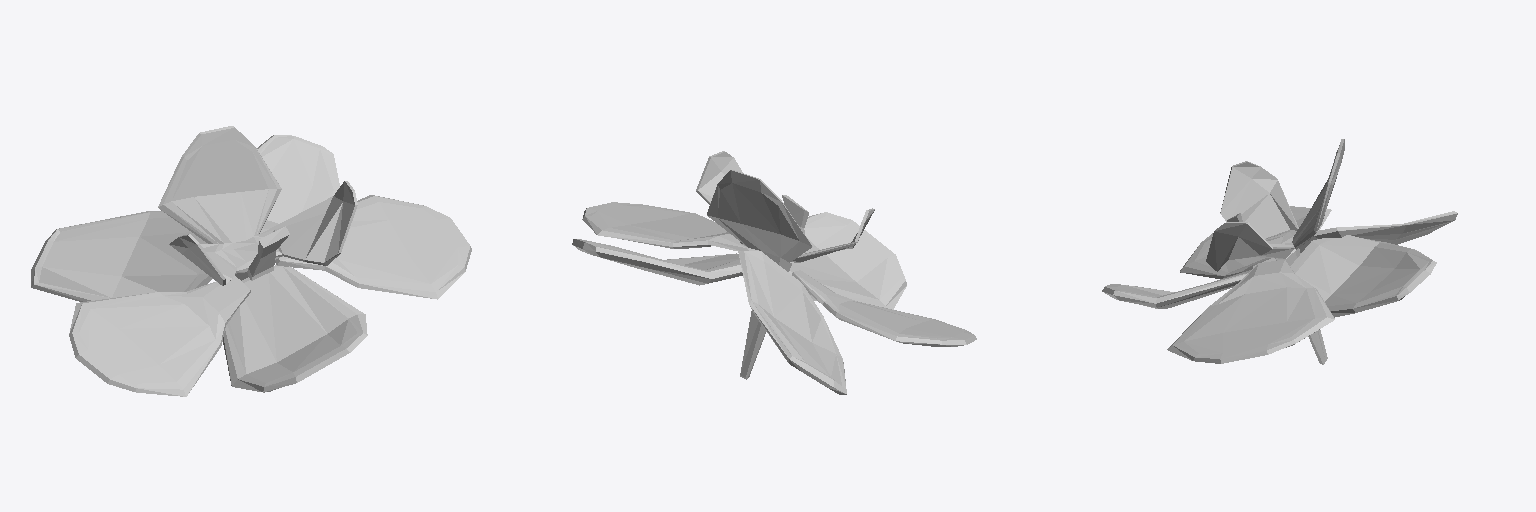
The model's file is orchid.obj.
The picture shows the model from 3 angles: view 1: azimuth 30°, elevation 25°; view 2: azimuth 150°, elevation 25°; view 3: azimuth 270°, elevation 25°; orthographic projection.
Visible parts, largest first — view 1: polySurface36; view 2: polySurface36; view 3: polySurface36.
Boxes of the visible parts, <box> form: polySurface36: <box>31,126,471,396</box>; polySurface36: <box>572,151,976,394</box>; polySurface36: <box>1102,139,1457,364</box>.
Size of the model in its own units: 1.92 by 1.03 by 1.56.